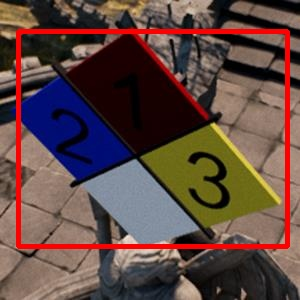nfpa: (18, 31, 287, 246)
